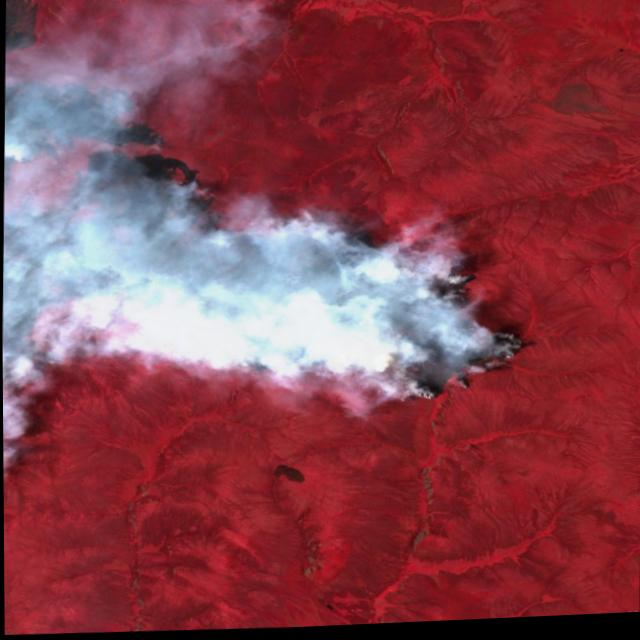fire: (52, 157, 544, 433)
